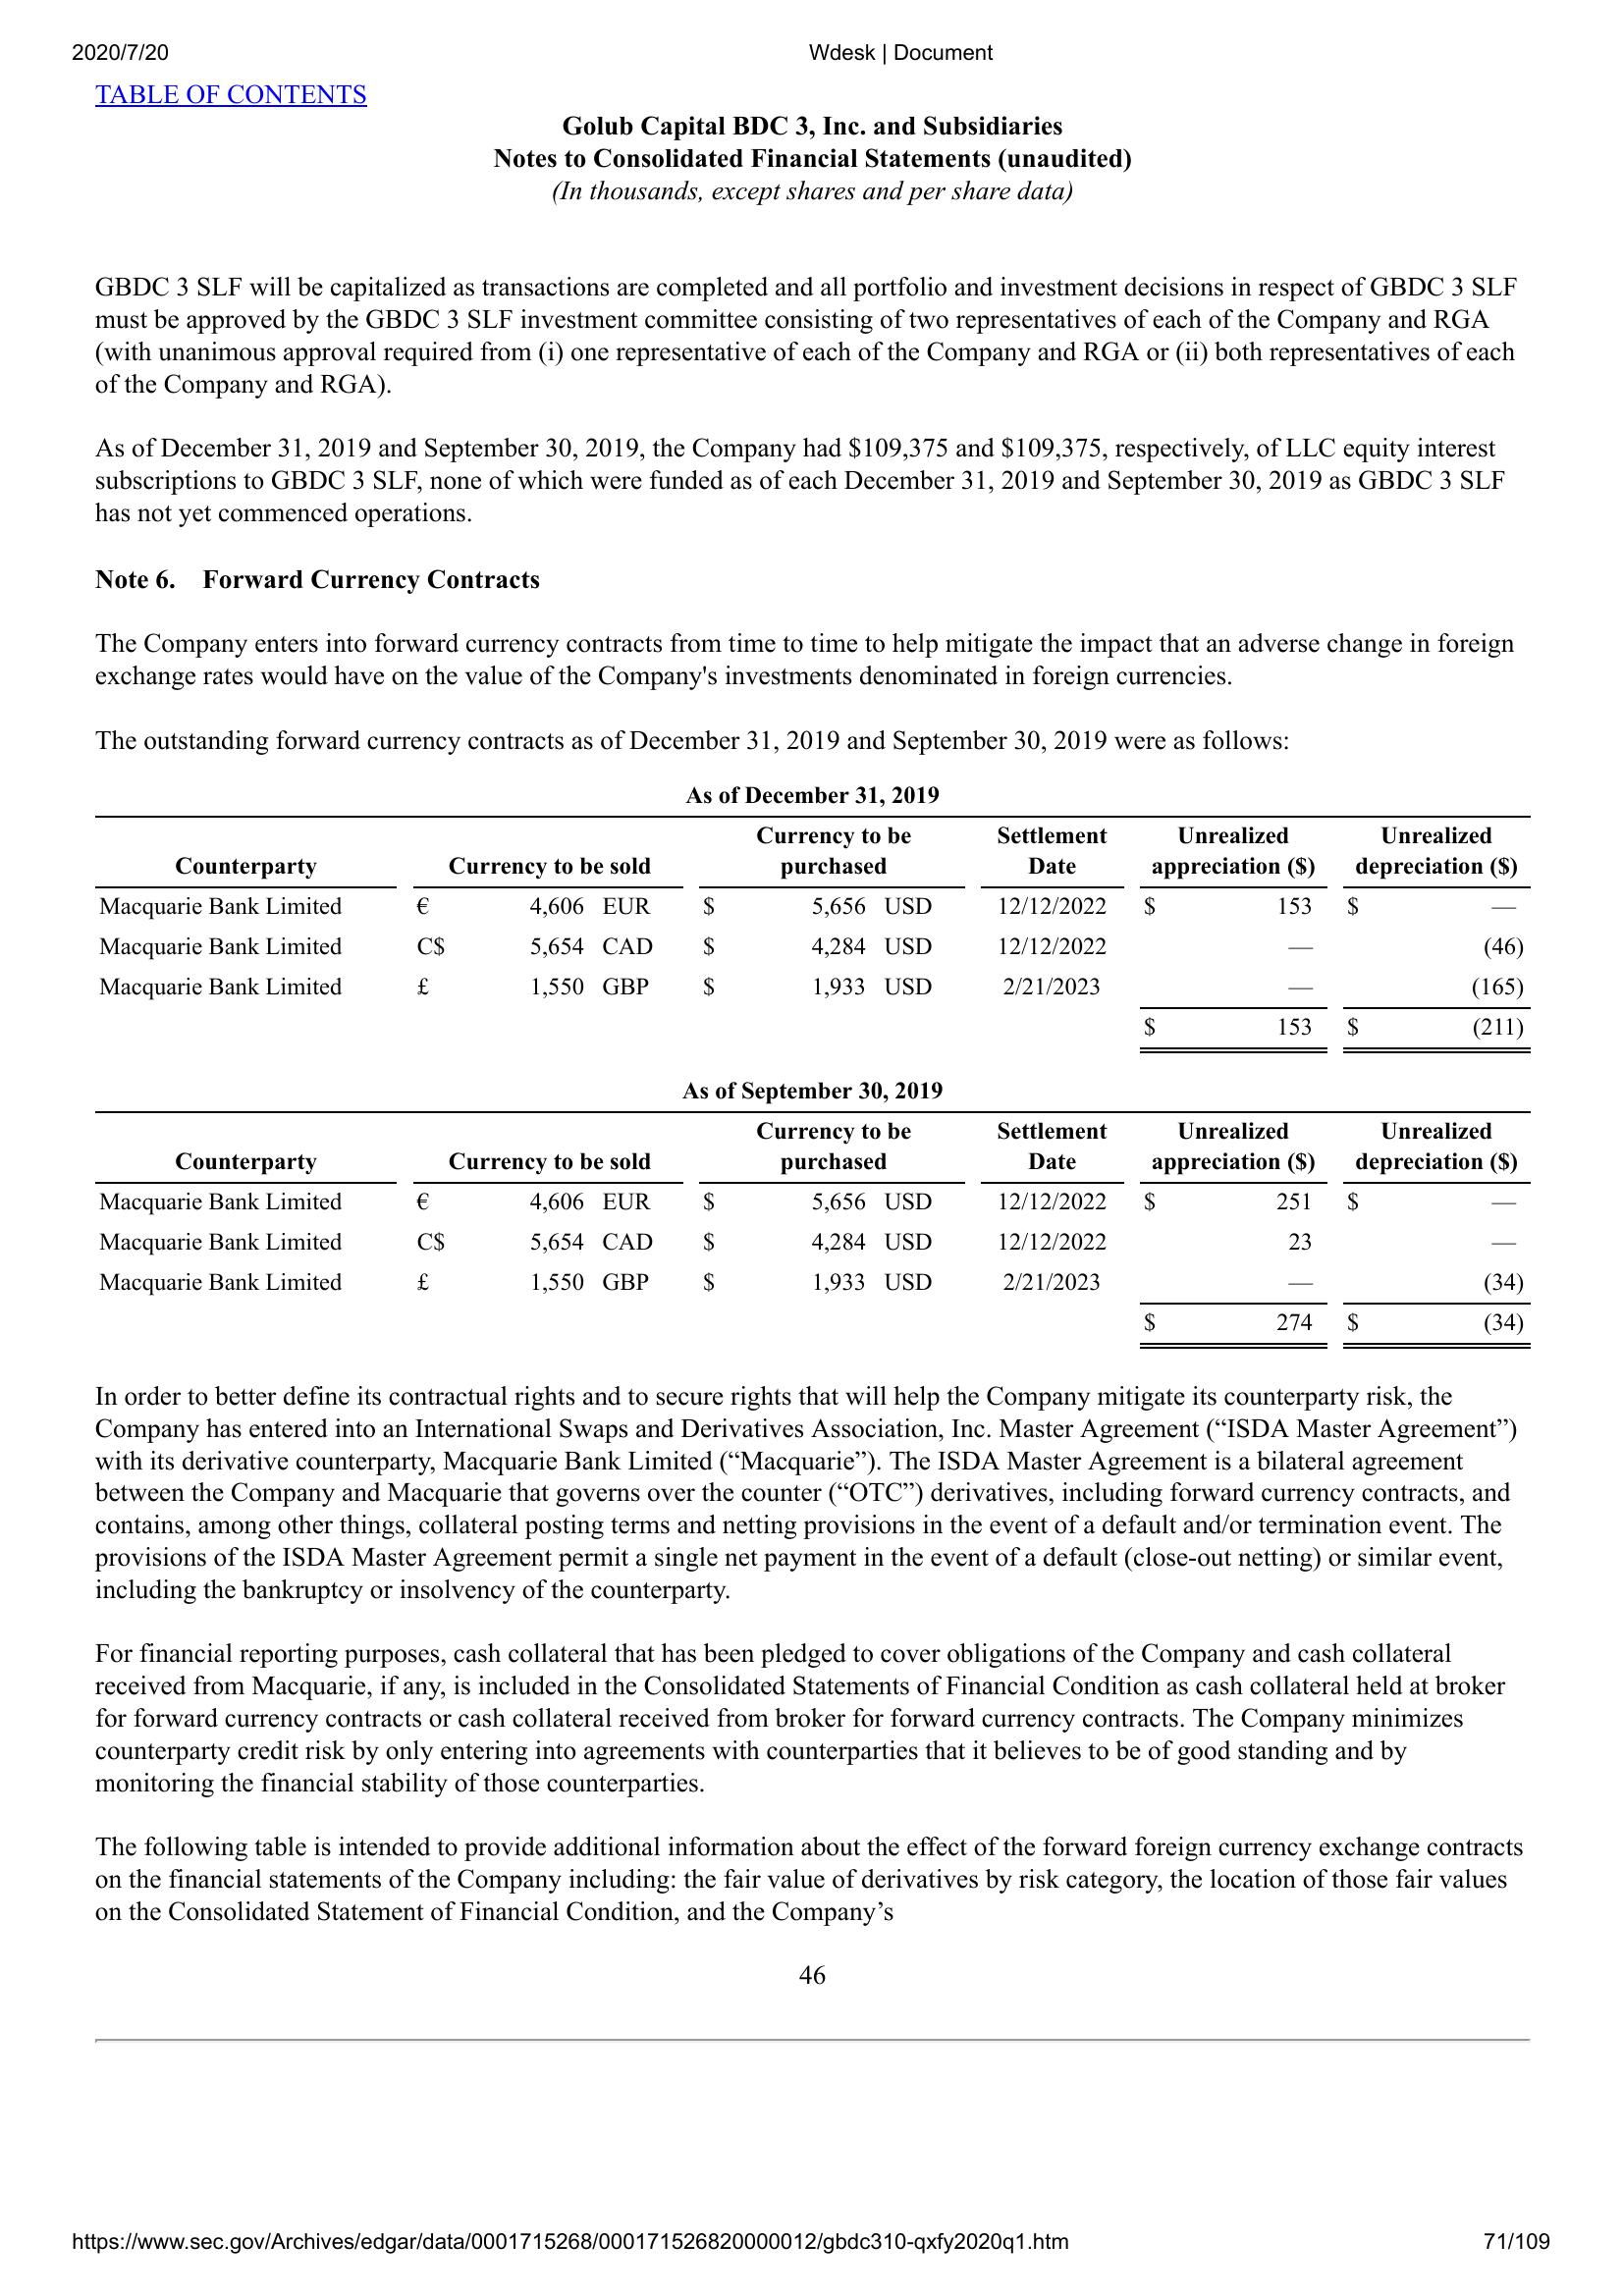table: (83, 1065, 1551, 1357), (77, 781, 1558, 1065)
